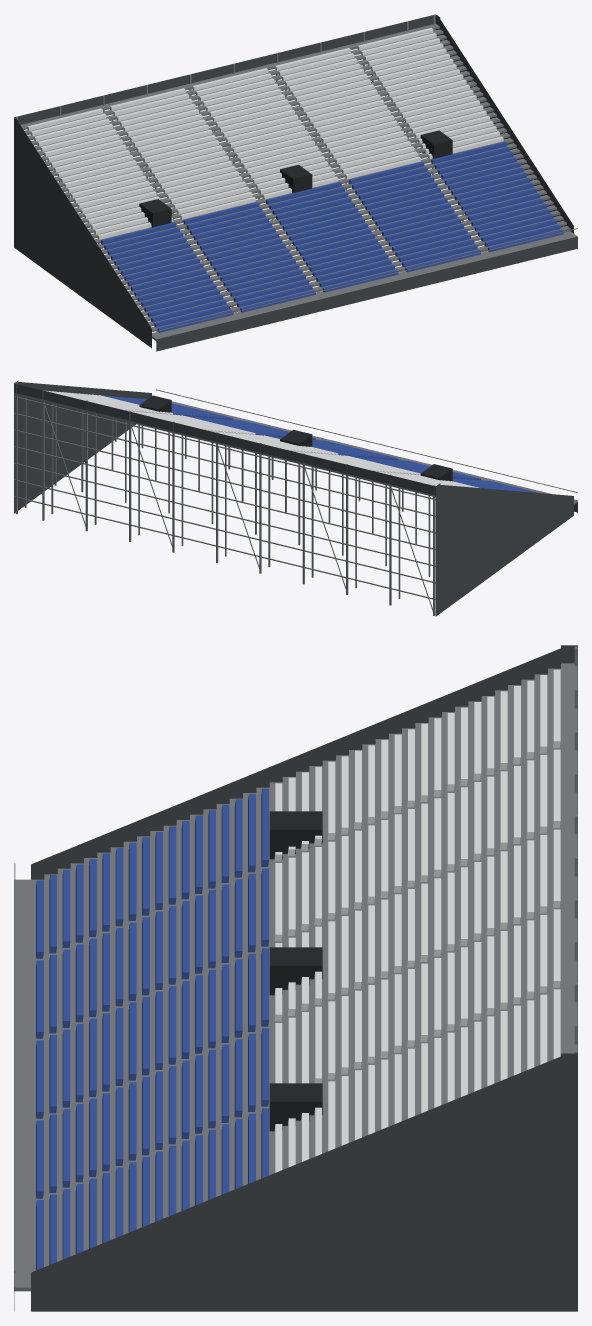
File: rbr_open_mitte_sw.glb
3 renders of one model, top to bottom at view 1: azimuth 30°, elevation 25°; view 2: azimuth 150°, elevation 25°; view 3: azimuth 270°, elevation 25°, orthographic. The views are drawn at different scales.
Parts seen in each view (by area): view 1: red-bull-ring-mitte-sw; view 2: red-bull-ring-mitte-sw; view 3: red-bull-ring-mitte-sw.
Part boxes in pixels (x1,y1,x2,y2): red-bull-ring-mitte-sw: (14, 14, 577, 351); red-bull-ring-mitte-sw: (14, 380, 577, 616); red-bull-ring-mitte-sw: (14, 645, 577, 1311).
Bounding box in the file's own units: 58.34 × 17.2 × 34.05.
